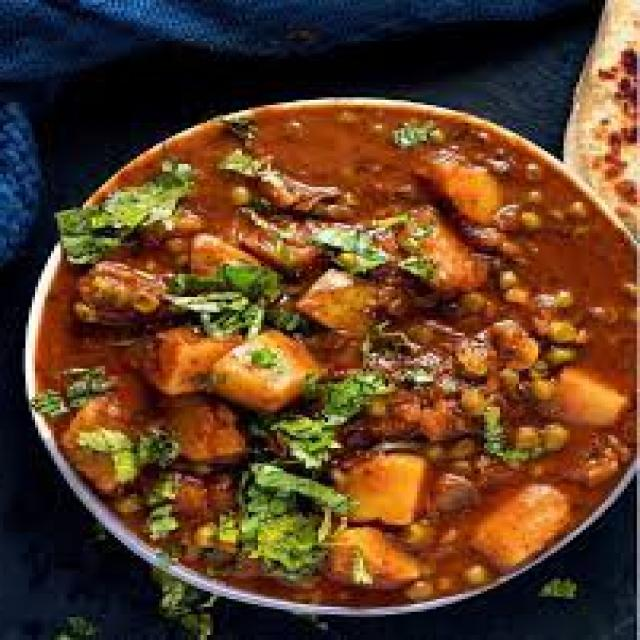Aloo Matar: (23, 98, 634, 621)
